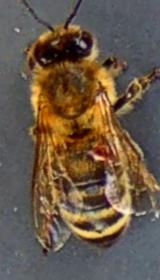varroa_mite: (78, 138, 117, 166)
